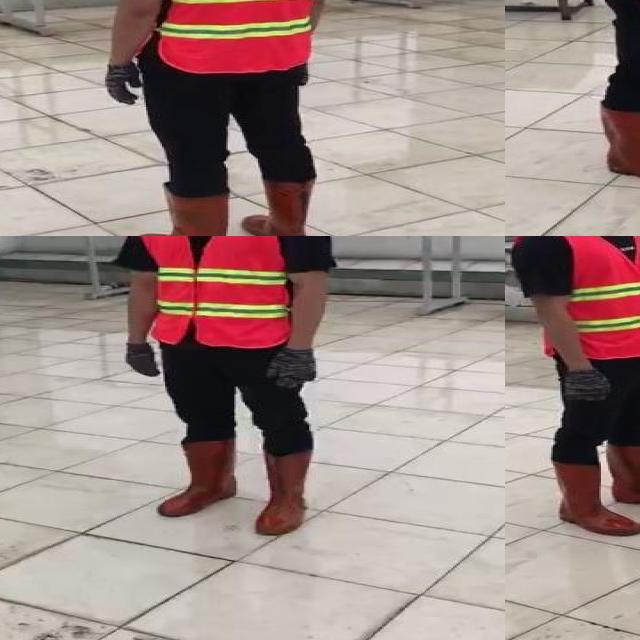boots: (537, 458, 640, 537), (158, 434, 241, 519), (252, 451, 313, 537), (135, 186, 234, 236), (240, 178, 313, 236), (594, 98, 640, 187), (606, 443, 640, 508)
hand_glove: (262, 347, 320, 388), (556, 366, 612, 404), (105, 62, 146, 104), (126, 344, 163, 378)
person: (109, 236, 342, 543), (90, 0, 348, 236), (505, 236, 640, 540), (568, 0, 640, 184)
vest: (138, 236, 294, 348), (513, 236, 640, 359), (142, 0, 332, 71)
